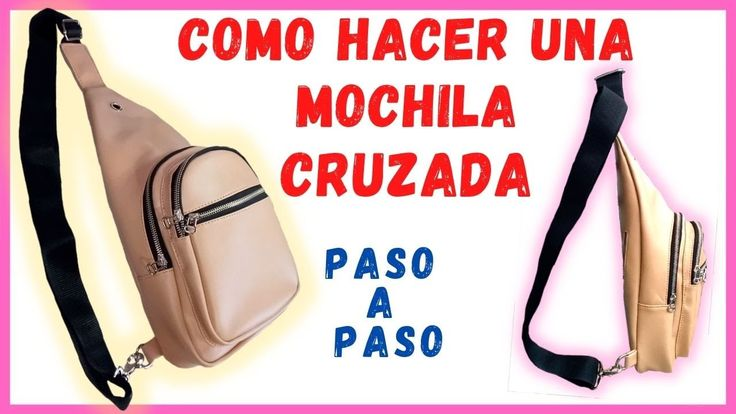cuero: (61, 38, 300, 369)
